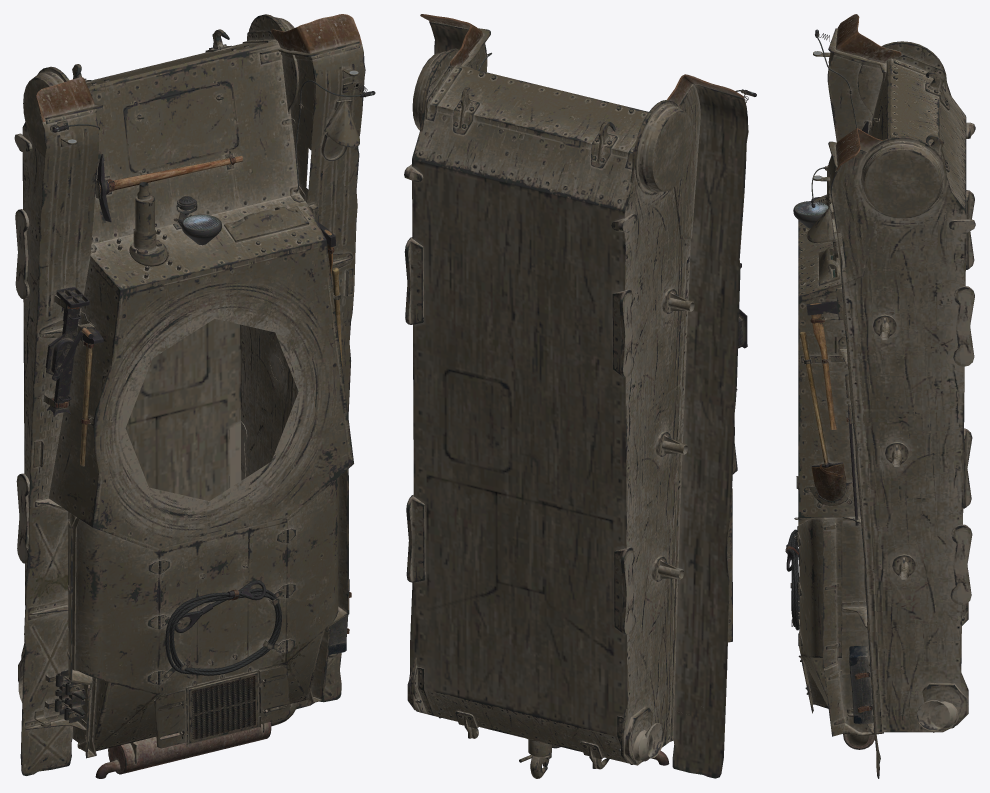
The model's file is Hull.glb.
3 views of the same model, side by side, from view 1: azimuth 30°, elevation 25°; view 2: azimuth 150°, elevation 25°; view 3: azimuth 270°, elevation 25° (orthographic). The views are drawn at different scales.
Visible parts, largest first — view 1: set_0_group_0; view 2: set_0_group_0; view 3: set_0_group_0.
Boxes of the visible parts, left/top/right/bottom form: set_0_group_0: left=14, top=14, right=375, bottom=778; set_0_group_0: left=404, top=14, right=756, bottom=778; set_0_group_0: left=785, top=14, right=975, bottom=778.
Size of the model in its own units: 2.01 by 4.26 by 1.14.
1 material, 1 textured.
